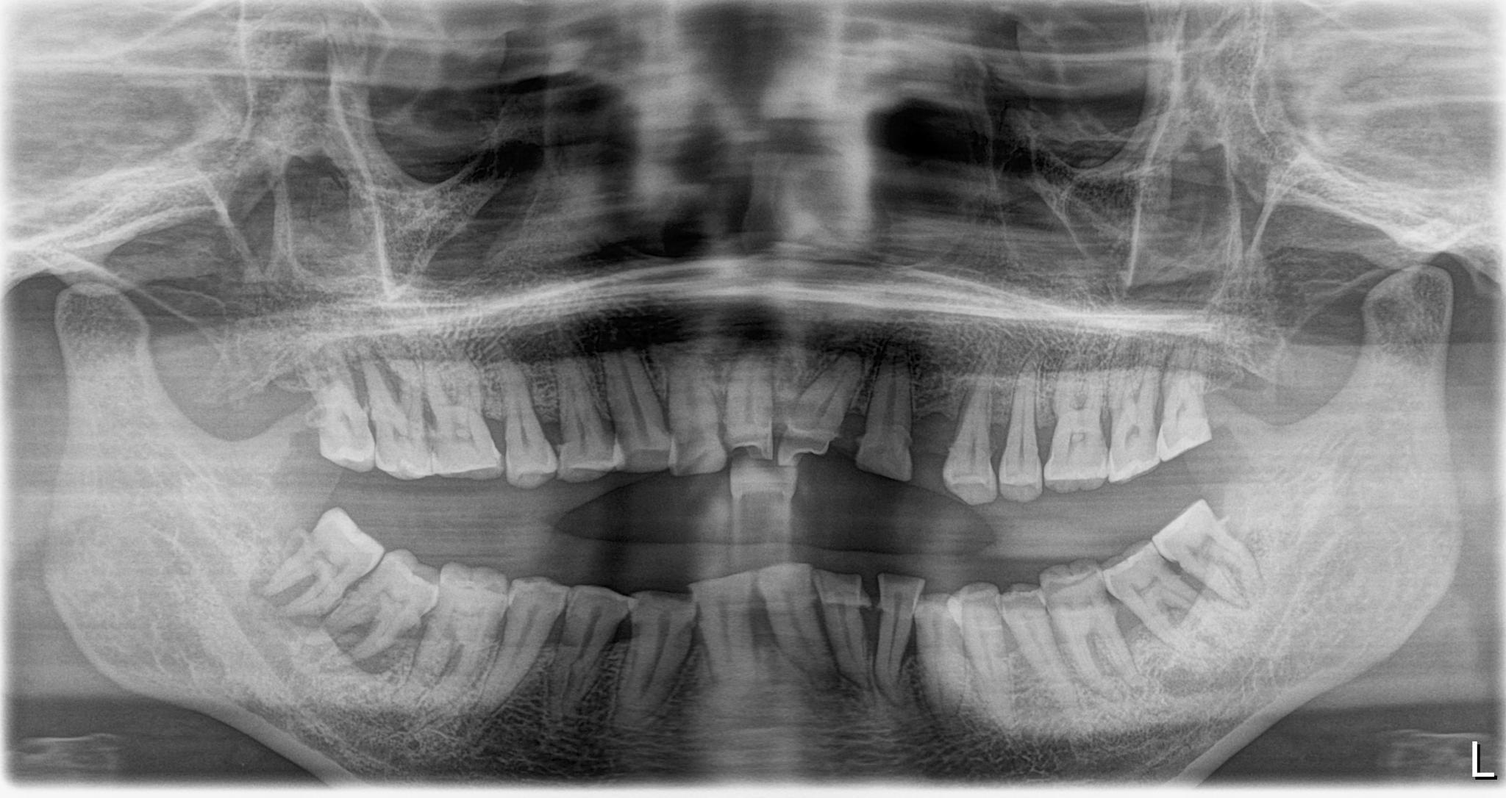Missing Tooth: (914, 393, 960, 482)
Periapical Abnormality: (327, 604, 421, 666)
Periodontal Pocket: (358, 353, 423, 476), (493, 367, 557, 469), (607, 358, 665, 470)
Tooth Fracture: (728, 423, 835, 473)
